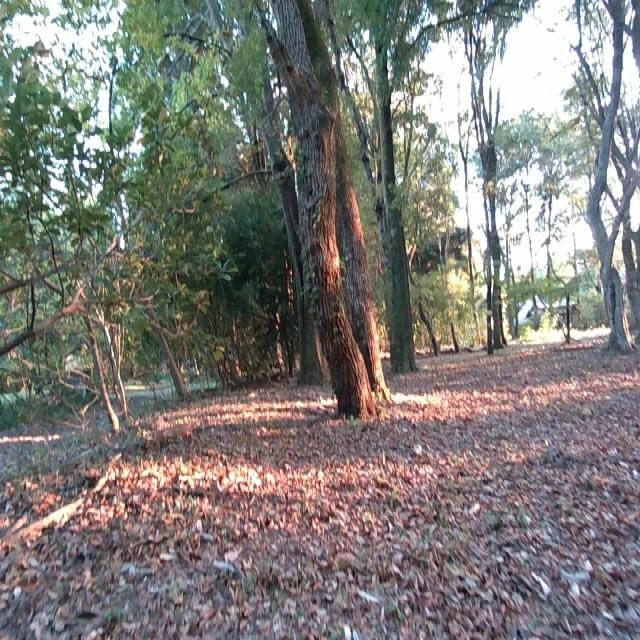bush: (0, 0, 245, 416)
tree: (258, 0, 396, 408), (369, 0, 419, 373), (588, 0, 640, 354), (472, 0, 508, 360)
